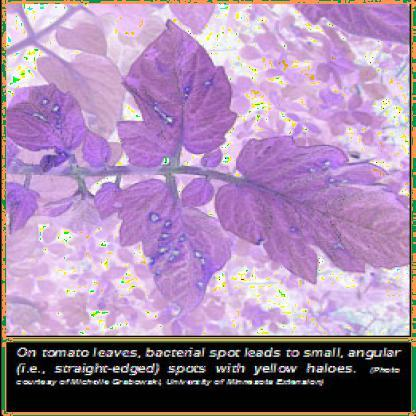Tomato leaf late blight: (218, 129, 410, 283), (121, 22, 250, 172), (110, 176, 231, 312), (6, 83, 94, 162)
